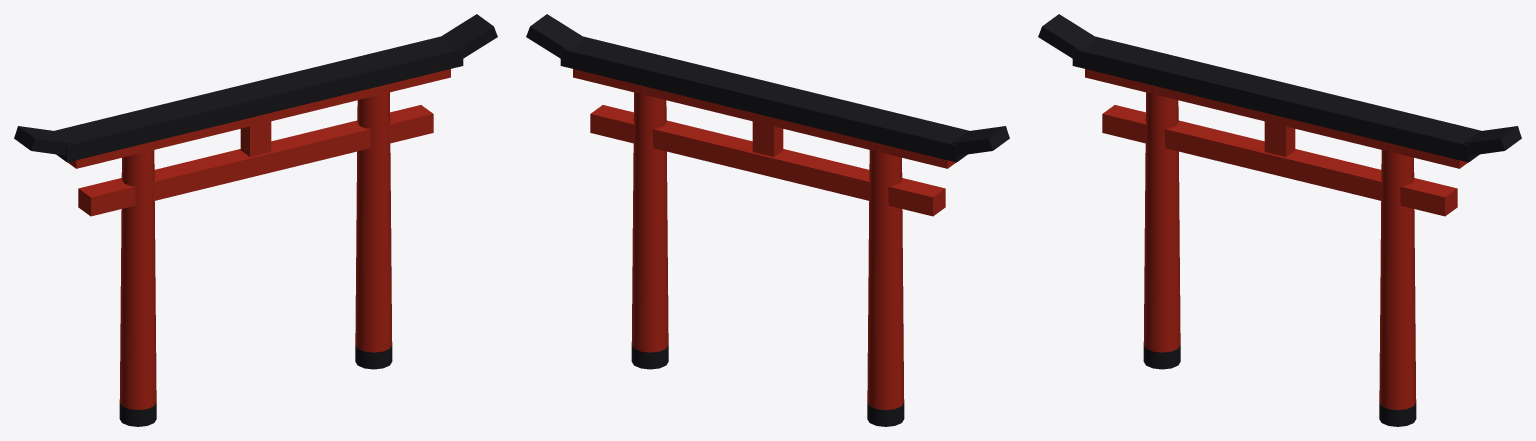
Rendered from torii.glb.
3 renders of one model, left to right at view 1: azimuth 30°, elevation 25°; view 2: azimuth 150°, elevation 25°; view 3: azimuth 330°, elevation 25°, orthographic.
Parts seen in each view (by area): view 1: Prop; view 2: Prop; view 3: Prop.
Boxes of the visible parts, box(x1,y1,x2,y2) form: Prop: box(14, 14, 497, 426); Prop: box(526, 14, 1009, 426); Prop: box(1038, 14, 1521, 426).
Bounding box in the file's own units: 8.72 × 5.61 × 0.6.
